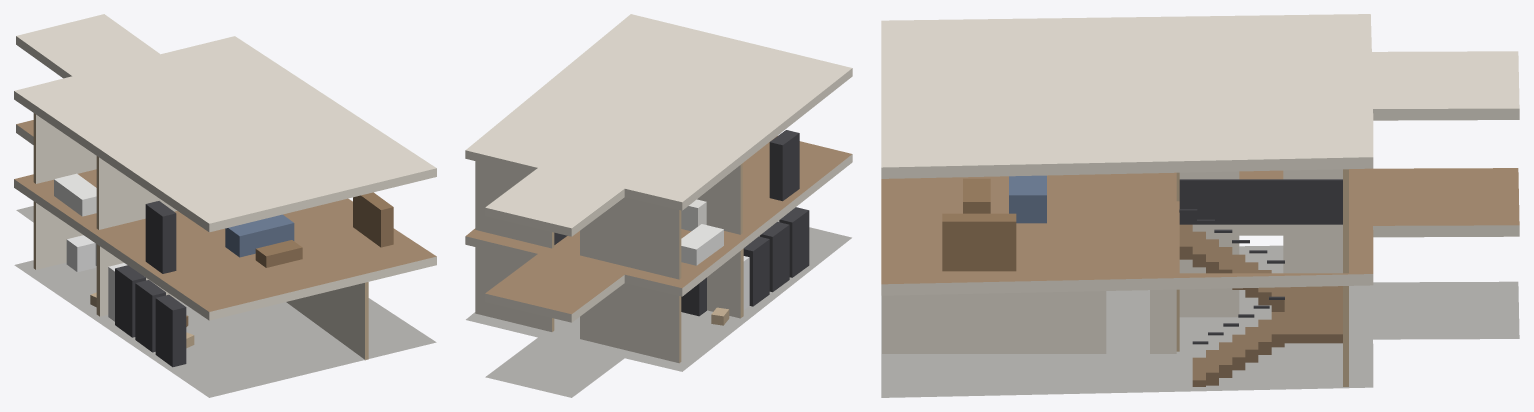
File: interior.glb
3 views of the same model, side by side, from view 1: azimuth 30°, elevation 25°; view 2: azimuth 150°, elevation 25°; view 3: azimuth 270°, elevation 25° (orthographic). The views are drawn at different scales.
Visible parts, largest first — view 1: slabs, partitions, coarse-s1, coarse-s0; view 2: slabs, partitions, coarse-s0, coarse-s1; view 3: slabs, partitions, stair, coarse-s1.
Part boxes in pixels (x1=…): slabs: x1=14, y1=14, x2=436, y2=397; partitions: x1=33, y1=113, x2=368, y2=360; coarse-s1: x1=54, y1=173, x2=393, y2=273; coarse-s0: x1=66, y1=235, x2=194, y2=367; slabs: x1=465, y1=14, x2=852, y2=397; partitions: x1=475, y1=161, x2=743, y2=363; coarse-s0: x1=681, y1=207, x2=809, y2=325; coarse-s1: x1=681, y1=130, x2=799, y2=265; slabs: x1=881, y1=14, x2=1519, y2=397; partitions: x1=882, y1=169, x2=1348, y2=386; stair: x1=1179, y1=179, x2=1342, y2=386; coarse-s1: x1=942, y1=175, x2=1046, y2=271.
Size of the model in its own units: 7.47 by 5.25 by 13.13.
